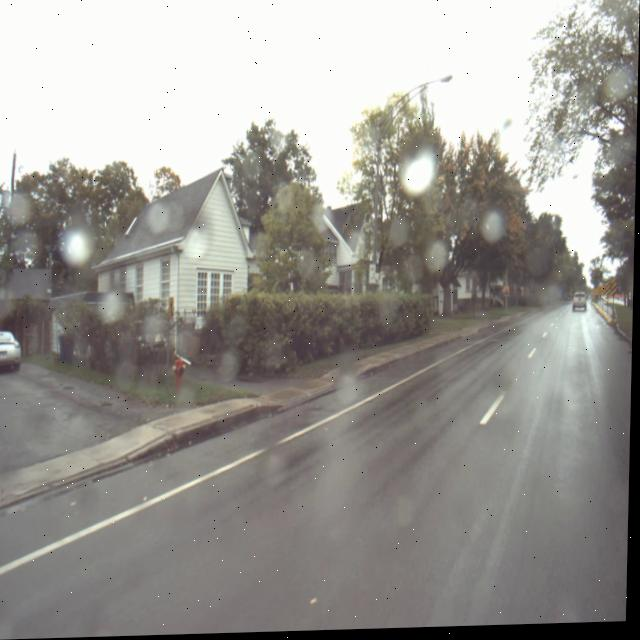car: (0, 329, 23, 374), (573, 294, 590, 317)
